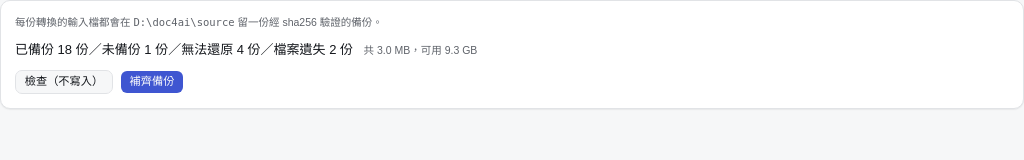
Scenario: 409 says a backfill is already running
This screenshot has width=1024, height=160.
What coordinates should you click on to do the following:
click the button "補齊備份"
I would click on:
 (152, 82)
Its box is top-left (120, 70), bottom-right (184, 94).
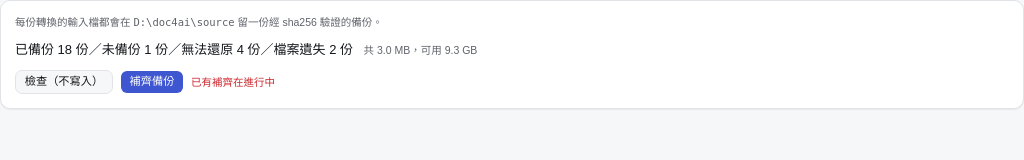
expect the message reads "已有補齊在進行中": met, box top-left (191, 76), bottom-right (275, 88)
